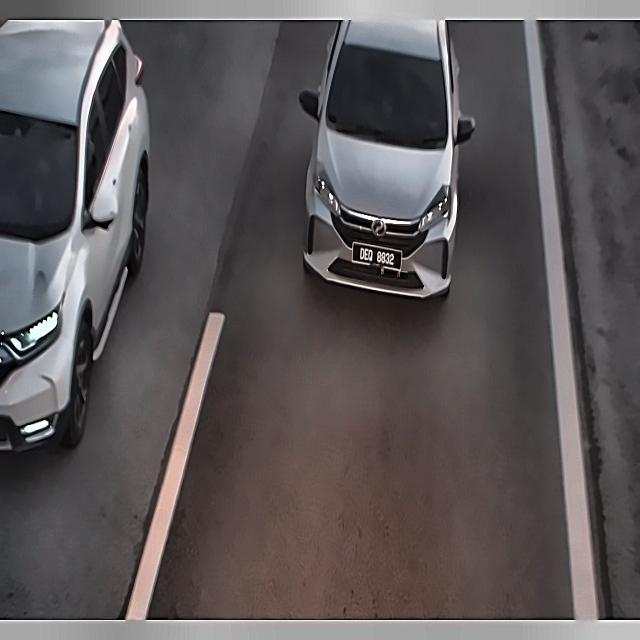car: (350, 236, 404, 278)
